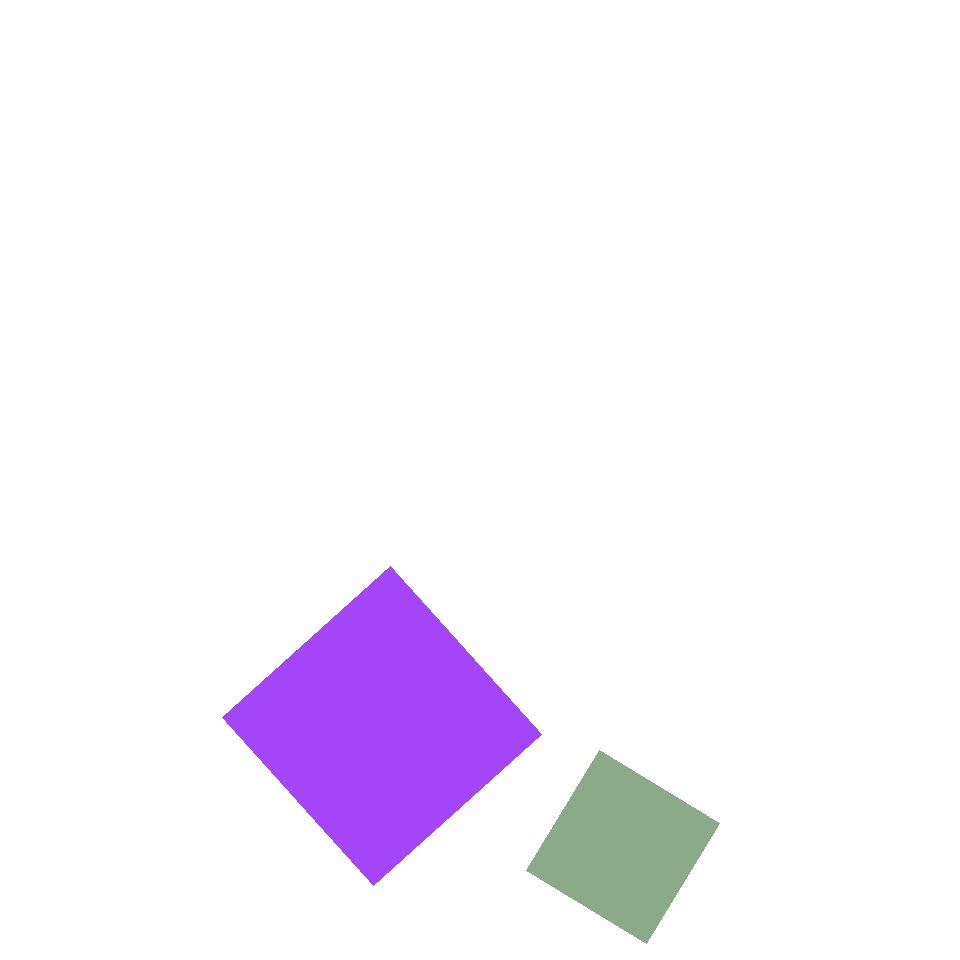circle: (190, 546, 440, 788)
square: (222, 566, 541, 886), (658, 491, 940, 772), (526, 750, 720, 944), (624, 558, 798, 734)
